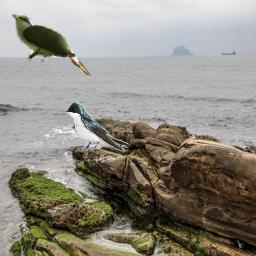Cuckoo: (10, 14, 91, 76)
Swallow: (64, 101, 131, 152)
